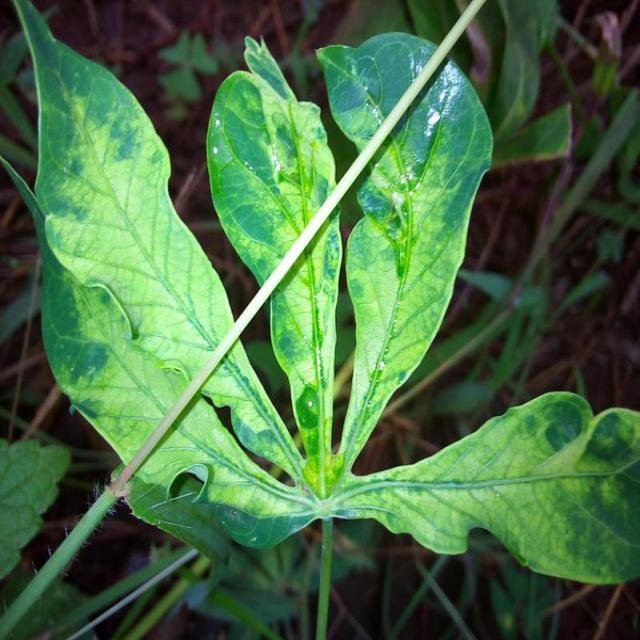cassava leaf: (3, 1, 638, 588), (9, 0, 316, 551), (314, 29, 494, 479), (205, 34, 343, 498)
